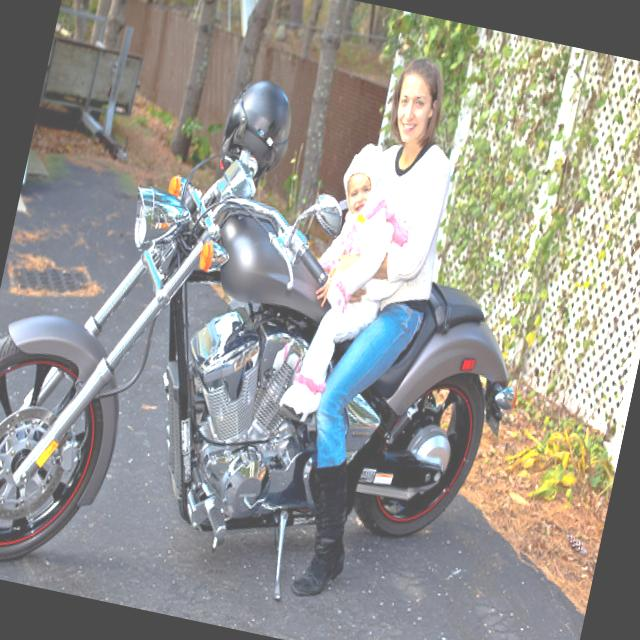Vehicle: (0, 33, 575, 640)
